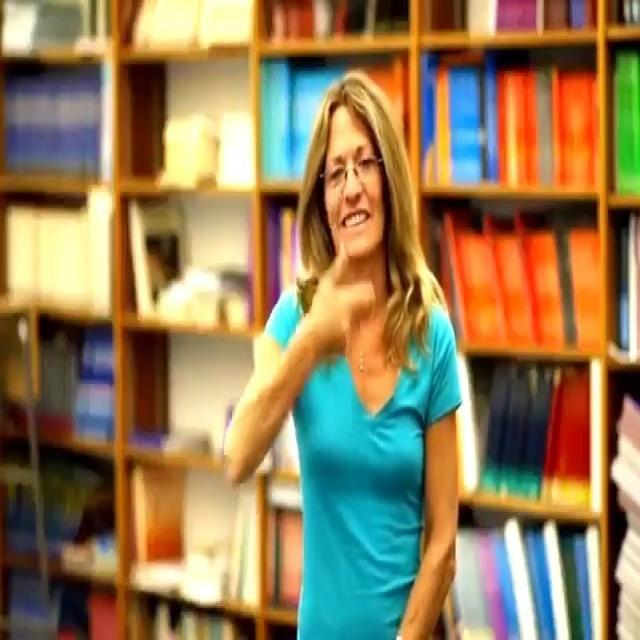pizza: (296, 238, 375, 362)
